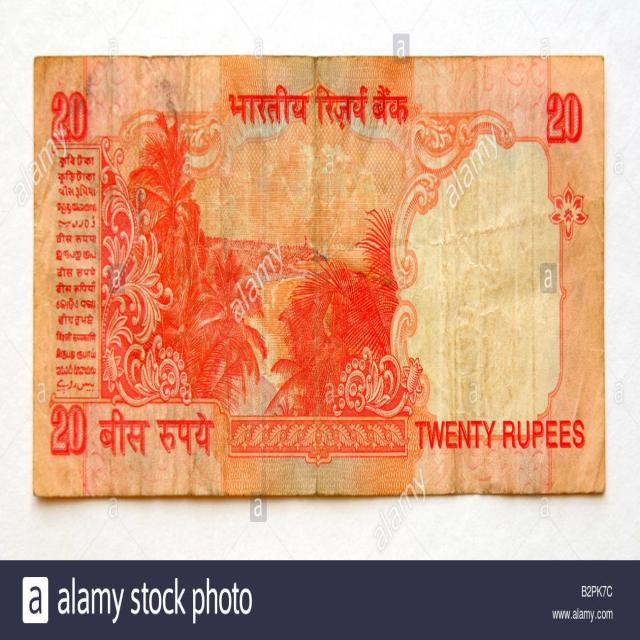20IndianRupees: (33, 55, 601, 490)
